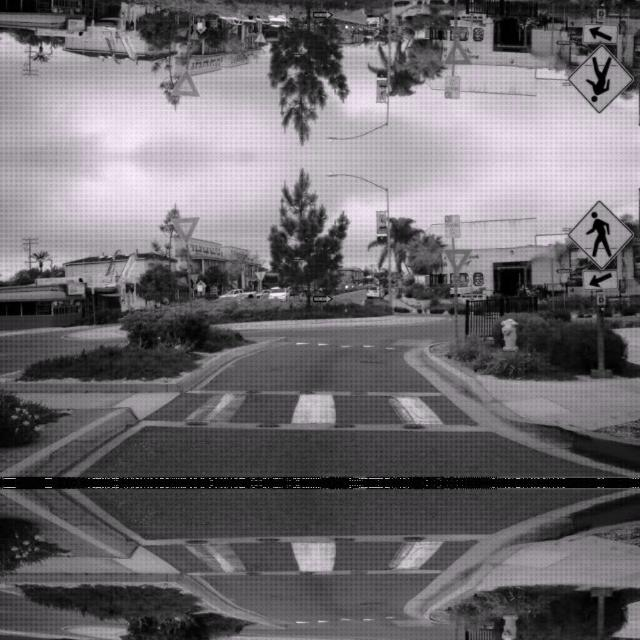pedestrianCrossing: (566, 198, 634, 270), (566, 42, 634, 114)
yield: (170, 214, 200, 242), (170, 70, 200, 98), (442, 247, 472, 273), (442, 39, 472, 65)
